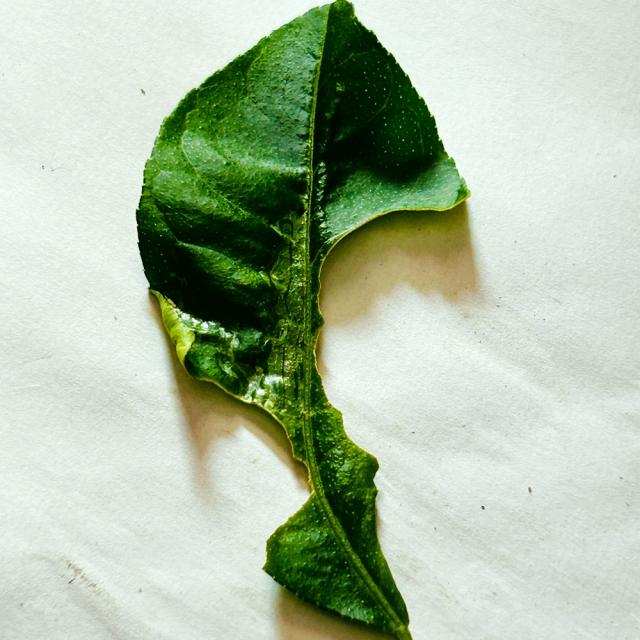Deficiency Leaf: (317, 204, 500, 626), (186, 377, 309, 559)
Lemon: (136, 0, 468, 639)
